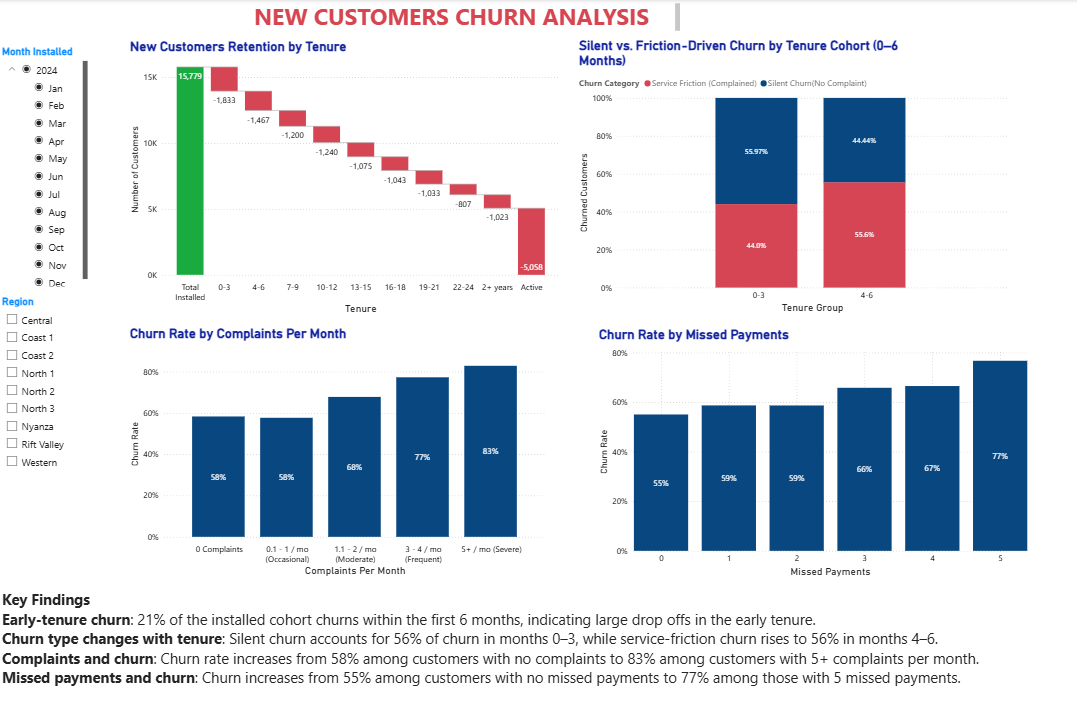

The dashboard page shown, as its layout file describes it:
{"tool":"powerbi","page":{"name":"New Customers Retention","canvas":[1800,1200],"ordinal":0},"visuals":[{"type":"slicer","title":"Month Installed","fields":{"Values":["DateTable.YEAR Hierarchy.YEAR","DateTable.YEAR Hierarchy.MONTH"]},"box":[0,75,150,399.6],"z":0},{"type":"waterfallChart","title":"New Customers Retention by Tenure","fields":{"Category":["WaterfallCategories.Category"],"Y":["crm_customers.WaterfallValue"]},"box":[209.5,65.5,711.8,454.9],"z":1000},{"type":"textbox","box":[412.4,0,706.9,57.3],"z":2000},{"type":"slicer","title":"Region","fields":{"Values":["Customers.Region"]},"box":[0,483.6,160.9,294.3],"z":3000},{"type":"hundredPercentStackedColumnChart","title":"Silent vs. Friction-Driven Churn by Tenure Cohort (0–6 Months)","fields":{"Category":["crm_customers.Tenure Group"],"Series":["crm_customers.Early Churn Category"],"Y":["Customers.Churned Customers"]},"box":[944.2,63.8,710.7,455.8],"z":4000},{"type":"clusteredColumnChart","fields":{"Category":["crm_customers.Complaints 6M Density Bin"],"Y":["Customers.Churn Rate"]},"box":[209.5,535.1,690.5,414],"z":4001},{"type":"clusteredColumnChart","fields":{"Category":["crm_customers.Missed Payments 6M Density Bin"],"Y":["Customers.Churn Rate"]},"box":[977.3,536.9,710.7,413.3],"z":4002},{"type":"textbox","box":[0,961,1800,239],"z":4003}]}

Visuals, with their boxes in screenshot pixels (x1, y1, x2, y2), scaled from the page's 1800x1200 canvas onto the 1077x714 screenshot:
"Month Installed" slicer: 0 45 90 282
"New Customers Retention by Tenure" waterfallChart: 125 39 551 310
textbox: 247 0 670 34
"Region" slicer: 0 288 96 463
"Silent vs. Friction-Driven Churn by Tenure Cohort (0–6 Months)" hundredPercentStackedColumnChart: 565 38 990 309
clusteredColumnChart - crm_customers.Complaints 6M Density Bin x Customers.Churn Rate: 125 318 538 565
clusteredColumnChart - crm_customers.Missed Payments 6M Density Bin x Customers.Churn Rate: 585 319 1010 565
textbox: 0 572 1076 713
